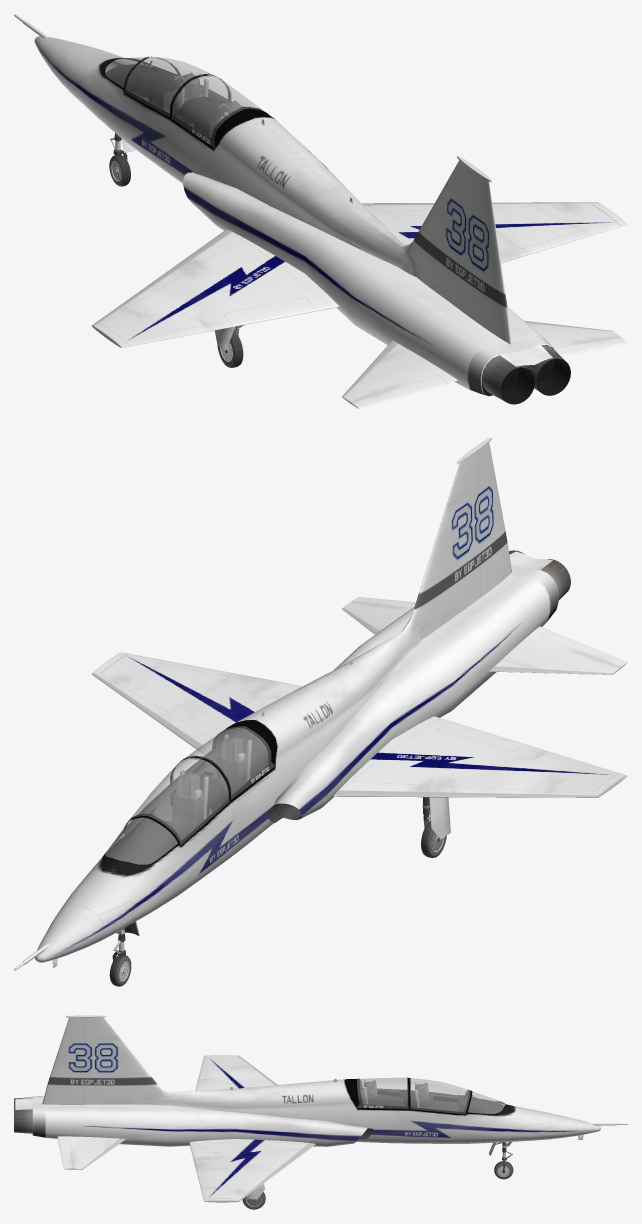
The picture shows the model from 3 angles, top to bottom: view 1: azimuth 30°, elevation 25°; view 2: azimuth 150°, elevation 25°; view 3: azimuth 270°, elevation 25°; orthographic projection. The views are drawn at different scales.
Visible parts, largest first — view 1: TAL16OBJ; view 2: TAL16OBJ; view 3: TAL16OBJ.
Part boxes in pixels (<box>): TAL16OBJ: <box>14,14,627,408</box>; TAL16OBJ: <box>14,437,627,986</box>; TAL16OBJ: <box>14,1015,627,1209</box>.
Bounding box in the file's own units: 3.53 × 1.85 × 6.3.
2 materials, 2 textured.
